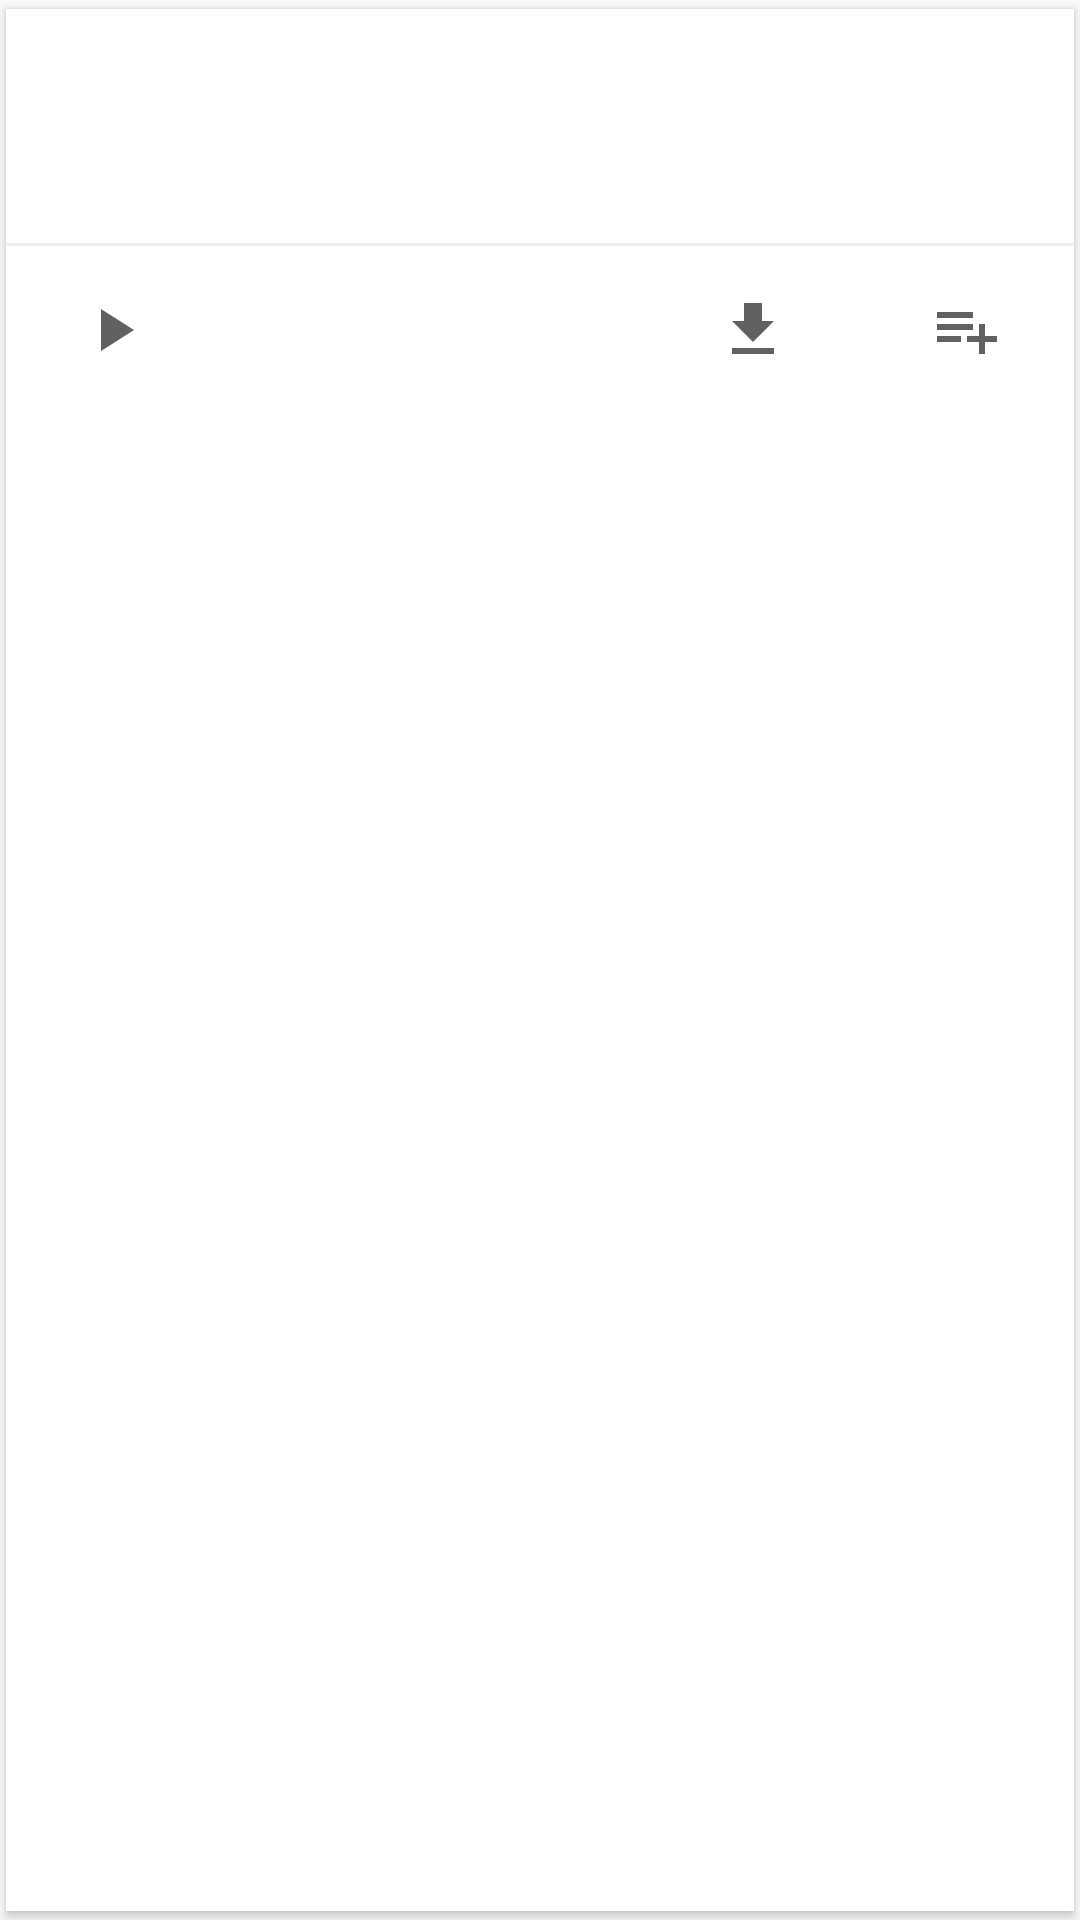

Icon click points for this 1080 × 1920 phone screenshot, format (x=x, y=y):
download: (x=753, y=328)
play: (x=117, y=330)
playlist add: (x=967, y=333)
